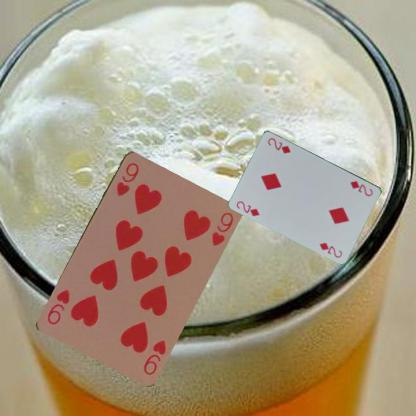2d: (348, 178, 374, 198), (234, 198, 261, 217)
9h: (140, 337, 168, 376), (114, 160, 140, 198)
